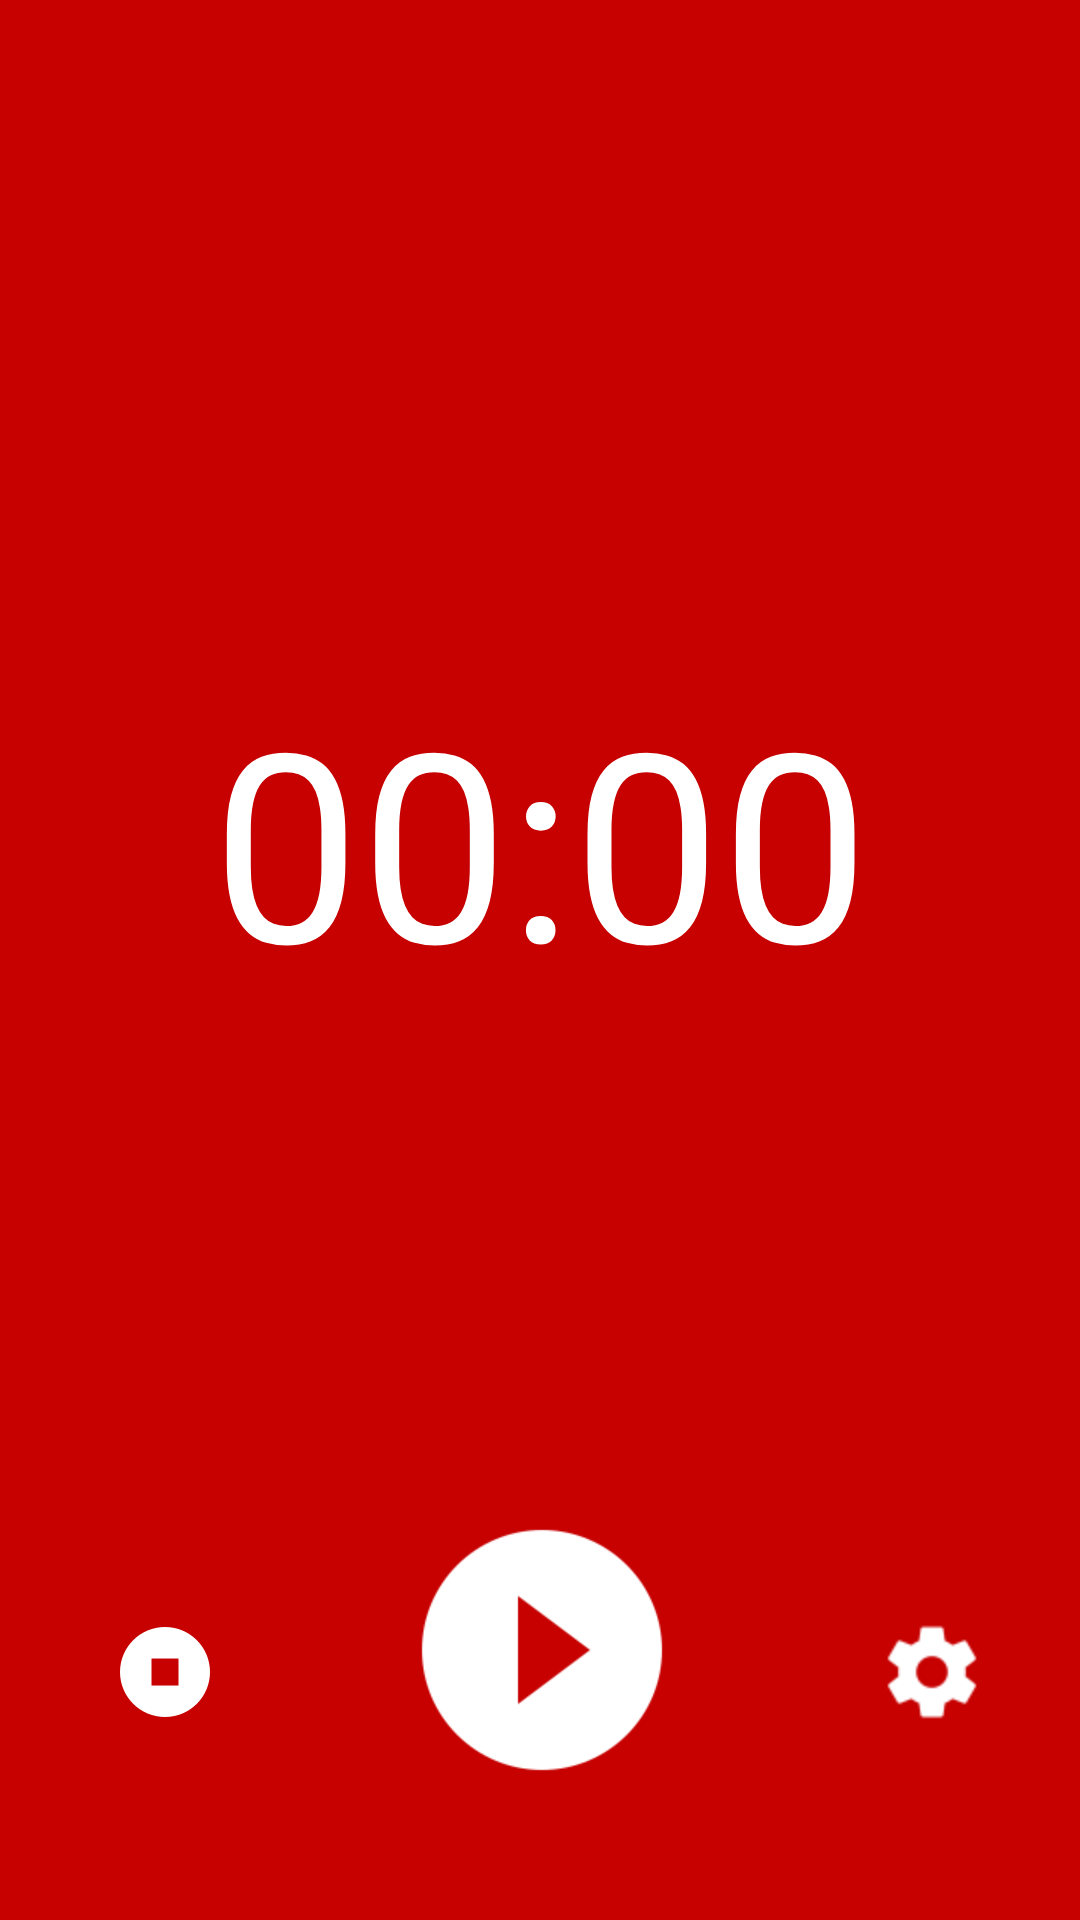

Icon bounding boxes for this 1080 × 1920 phone screenshot, format (x1, y1, x2, y2):
play circle: (421, 1529, 663, 1771)
settings: (887, 1625, 977, 1719)
stop circle: (120, 1627, 210, 1717)
